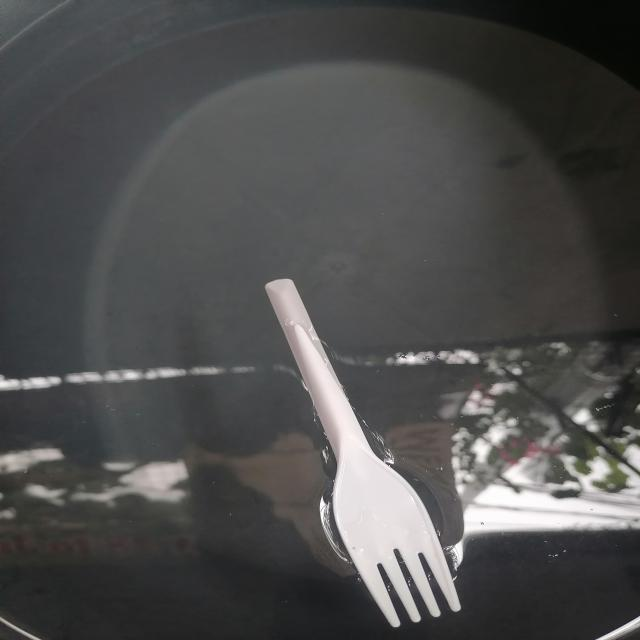Plastic Fork: (265, 279, 461, 628)
